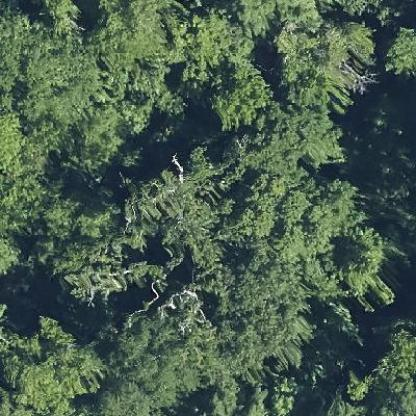tree-top: (1, 307, 102, 411), (274, 16, 376, 115), (37, 186, 129, 277), (342, 322, 415, 412), (379, 21, 415, 77)
